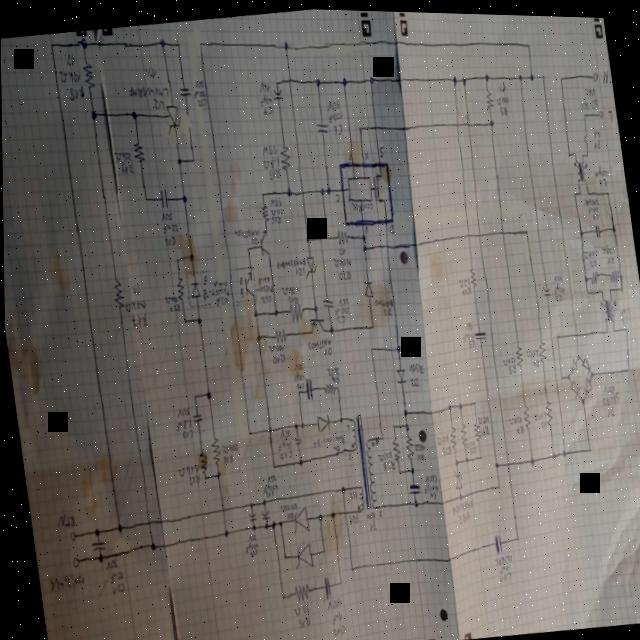capacitor: (301, 373, 313, 400), (157, 186, 168, 209), (320, 572, 330, 597), (88, 538, 105, 552), (405, 479, 420, 494), (314, 119, 329, 133), (270, 84, 283, 100), (177, 84, 192, 97), (491, 531, 500, 552), (472, 326, 486, 338), (319, 295, 332, 307), (189, 411, 201, 423), (592, 220, 601, 235), (257, 506, 268, 518), (540, 281, 549, 294), (244, 509, 254, 520), (292, 433, 301, 445)
crossover: (143, 517, 150, 528), (382, 238, 389, 249), (370, 120, 377, 130), (298, 186, 305, 196), (264, 423, 270, 434), (498, 225, 505, 234), (217, 504, 224, 513), (502, 456, 509, 465), (453, 117, 459, 127), (571, 325, 577, 335), (464, 227, 470, 236), (464, 117, 470, 126), (339, 506, 345, 515), (475, 228, 480, 236), (287, 75, 292, 82)
diode: (290, 540, 312, 568), (288, 504, 308, 533), (301, 252, 316, 277), (567, 375, 582, 398), (314, 411, 329, 432), (393, 363, 407, 382), (576, 354, 591, 371), (360, 276, 373, 295), (580, 372, 591, 394), (451, 467, 462, 488), (566, 354, 577, 370)
junction: (75, 36, 88, 51), (113, 520, 122, 533), (90, 525, 98, 537), (90, 107, 97, 120), (450, 71, 457, 84), (203, 388, 211, 399), (94, 551, 102, 562), (130, 108, 137, 120), (318, 183, 325, 195), (340, 73, 347, 85), (459, 73, 466, 85), (393, 340, 400, 351), (194, 314, 201, 325), (147, 540, 154, 551), (576, 224, 583, 235), (367, 72, 374, 83), (326, 322, 333, 333), (310, 302, 318, 311), (158, 37, 165, 47), (187, 251, 194, 261), (314, 510, 321, 520), (254, 330, 260, 341), (283, 38, 289, 49), (285, 185, 291, 196), (314, 75, 320, 86), (180, 192, 186, 203), (360, 240, 366, 251), (268, 519, 275, 528), (487, 115, 494, 124), (221, 527, 227, 537), (483, 70, 489, 80), (175, 156, 181, 166), (411, 496, 417, 506), (528, 453, 534, 463), (327, 508, 333, 518), (251, 308, 257, 318), (360, 229, 366, 239), (261, 519, 267, 529), (402, 420, 408, 430), (401, 405, 407, 415), (573, 349, 580, 357), (295, 456, 301, 465), (528, 69, 534, 78), (271, 306, 277, 315), (407, 463, 413, 472), (609, 221, 615, 230), (516, 70, 522, 79), (275, 517, 281, 526), (578, 392, 584, 401), (175, 39, 181, 47), (244, 243, 250, 251), (522, 224, 528, 232), (452, 454, 457, 463), (624, 361, 629, 370), (347, 562, 352, 571), (582, 269, 587, 278), (291, 420, 296, 429), (456, 489, 461, 498), (494, 480, 500, 487), (200, 473, 206, 480), (492, 458, 497, 466), (214, 469, 219, 477), (550, 449, 555, 457), (356, 122, 361, 130), (560, 446, 565, 454), (558, 71, 563, 79), (324, 231, 329, 239), (389, 420, 394, 428), (304, 234, 309, 242), (337, 413, 342, 421), (259, 496, 264, 504), (338, 484, 343, 492), (564, 369, 569, 377), (462, 453, 467, 461), (476, 450, 481, 458), (622, 321, 627, 329), (280, 552, 285, 559), (513, 532, 518, 539), (142, 194, 147, 201), (367, 343, 372, 350), (336, 577, 341, 584), (278, 592, 283, 599), (554, 329, 559, 336), (369, 320, 374, 327), (445, 401, 450, 408), (197, 39, 202, 46), (49, 41, 54, 48), (456, 399, 461, 406), (173, 255, 178, 262), (319, 546, 324, 553), (584, 285, 589, 292), (540, 69, 545, 76), (525, 39, 530, 46), (190, 155, 195, 162), (181, 316, 186, 323), (581, 108, 586, 115), (298, 419, 303, 426), (246, 499, 251, 506), (470, 396, 475, 403), (191, 392, 196, 398), (245, 428, 250, 434), (558, 371, 563, 377), (269, 461, 274, 467), (317, 233, 322, 239), (604, 187, 609, 193), (565, 148, 570, 154), (603, 325, 608, 331), (584, 186, 589, 192), (583, 148, 588, 154), (617, 270, 622, 276), (617, 282, 622, 288), (273, 78, 278, 84), (250, 522, 255, 528), (588, 368, 593, 374), (395, 466, 400, 472), (377, 432, 382, 438), (610, 324, 615, 330), (606, 284, 611, 289), (586, 444, 590, 450), (260, 190, 264, 196), (572, 188, 576, 194), (580, 149, 584, 155), (598, 285, 602, 291), (333, 382, 337, 388), (572, 148, 576, 153), (295, 388, 299, 393), (577, 186, 580, 191)
resistor: (80, 60, 95, 90), (110, 277, 124, 309), (290, 581, 309, 601), (278, 141, 291, 170), (286, 300, 304, 320), (207, 434, 219, 462), (130, 139, 144, 162), (456, 418, 468, 444), (512, 341, 524, 366), (482, 85, 495, 108), (402, 429, 413, 456), (173, 275, 184, 302), (389, 434, 400, 460), (446, 423, 457, 448), (542, 396, 552, 423), (520, 400, 530, 427), (535, 337, 547, 359), (271, 325, 286, 342), (470, 417, 481, 440), (335, 226, 349, 244), (321, 379, 336, 395), (196, 449, 206, 471), (259, 202, 269, 221), (467, 263, 476, 284), (606, 265, 619, 279), (587, 266, 599, 281)
terminal: (67, 554, 79, 568), (66, 529, 75, 543), (590, 67, 598, 78), (596, 105, 604, 116)
text: (126, 79, 169, 101), (309, 430, 343, 446), (46, 572, 69, 593), (273, 254, 306, 268), (449, 495, 473, 514), (57, 66, 80, 85), (306, 335, 330, 353), (53, 511, 75, 530), (232, 223, 259, 238), (122, 297, 146, 313), (349, 197, 373, 212), (599, 386, 619, 403), (175, 462, 197, 477), (128, 310, 146, 328), (322, 593, 341, 610), (66, 84, 85, 100), (578, 93, 599, 107), (331, 254, 351, 268), (173, 416, 190, 432), (592, 159, 608, 176), (68, 571, 84, 588), (260, 153, 279, 167), (406, 358, 422, 374), (108, 579, 124, 595), (113, 148, 130, 163), (160, 220, 177, 235), (277, 497, 295, 511), (491, 550, 510, 563), (278, 282, 298, 294), (257, 90, 272, 106), (295, 611, 310, 627), (260, 141, 277, 155), (420, 478, 437, 492), (290, 601, 308, 614), (209, 284, 228, 296), (373, 294, 392, 306), (118, 160, 133, 175), (107, 568, 122, 583), (266, 165, 281, 180), (275, 435, 290, 450), (378, 456, 394, 470), (143, 63, 157, 79), (326, 108, 342, 122), (268, 349, 284, 363), (254, 280, 272, 292), (325, 96, 340, 110), (183, 471, 198, 485), (62, 51, 76, 66), (329, 620, 343, 635), (220, 440, 237, 452), (374, 447, 391, 459), (265, 341, 283, 352), (151, 96, 165, 110), (582, 243, 597, 256), (600, 239, 615, 252), (128, 280, 141, 295), (506, 410, 521, 423), (531, 406, 546, 419), (242, 538, 257, 551), (455, 507, 468, 522), (332, 303, 349, 314), (175, 404, 189, 417), (213, 293, 227, 306), (102, 557, 116, 570), (600, 378, 613, 392), (434, 430, 448, 443), (617, 300, 630, 314), (336, 267, 351, 279), (599, 65, 609, 83), (494, 90, 509, 102), (500, 352, 515, 364), (261, 479, 276, 491), (582, 192, 598, 203), (551, 278, 564, 291), (268, 194, 281, 207), (276, 425, 289, 438), (328, 608, 341, 621), (258, 78, 270, 92), (496, 568, 510, 580), (330, 120, 342, 134), (255, 272, 269, 284), (422, 469, 436, 481), (162, 293, 177, 304), (211, 277, 227, 287), (167, 301, 180, 313), (291, 367, 303, 380), (258, 291, 271, 303), (191, 86, 205, 97), (158, 210, 172, 221), (324, 363, 338, 374), (268, 205, 283, 215), (162, 234, 174, 246), (583, 82, 595, 94), (605, 104, 614, 120), (220, 451, 232, 463), (523, 344, 536, 355), (346, 511, 357, 524), (335, 294, 348, 305), (456, 273, 469, 284), (277, 447, 290, 458), (179, 428, 192, 439), (408, 373, 419, 386), (365, 515, 375, 529), (439, 442, 450, 454), (293, 263, 304, 275), (261, 103, 272, 115), (460, 328, 472, 339), (478, 421, 488, 434), (604, 401, 614, 414), (411, 439, 424, 449), (334, 311, 345, 322), (496, 560, 507, 571), (461, 317, 472, 328), (363, 507, 374, 518), (285, 292, 297, 302), (269, 213, 281, 223), (377, 141, 385, 156), (496, 76, 505, 89), (475, 412, 488, 421), (550, 270, 561, 280), (195, 96, 206, 106), (192, 77, 203, 87), (513, 420, 523, 431), (459, 282, 470, 292), (335, 243, 345, 254), (619, 310, 628, 322), (591, 134, 600, 146), (590, 123, 599, 135), (498, 101, 507, 113), (537, 415, 546, 427), (506, 360, 515, 372), (263, 471, 275, 480), (586, 201, 598, 210), (328, 371, 338, 381), (605, 250, 614, 261), (597, 173, 606, 184), (291, 359, 302, 368), (346, 486, 355, 497), (463, 436, 474, 445), (588, 254, 597, 264), (249, 234, 258, 244), (246, 547, 256, 556), (244, 531, 254, 540), (414, 450, 423, 460), (530, 354, 539, 364), (381, 305, 390, 315), (387, 220, 394, 232), (293, 379, 302, 388), (263, 488, 272, 497), (330, 441, 339, 450), (283, 508, 291, 518), (467, 442, 475, 452), (332, 190, 339, 201), (324, 183, 331, 194), (553, 290, 561, 299), (345, 147, 351, 159), (427, 487, 435, 496), (590, 209, 598, 218), (466, 335, 473, 345), (363, 147, 368, 159), (372, 434, 377, 444), (344, 419, 349, 429), (345, 450, 350, 459), (363, 223, 368, 232), (376, 506, 381, 515)
thyristor: (162, 100, 183, 135)
transformer: (342, 407, 381, 512), (597, 290, 618, 321), (571, 154, 588, 180)
transistor: (256, 226, 269, 255), (306, 313, 324, 333)
